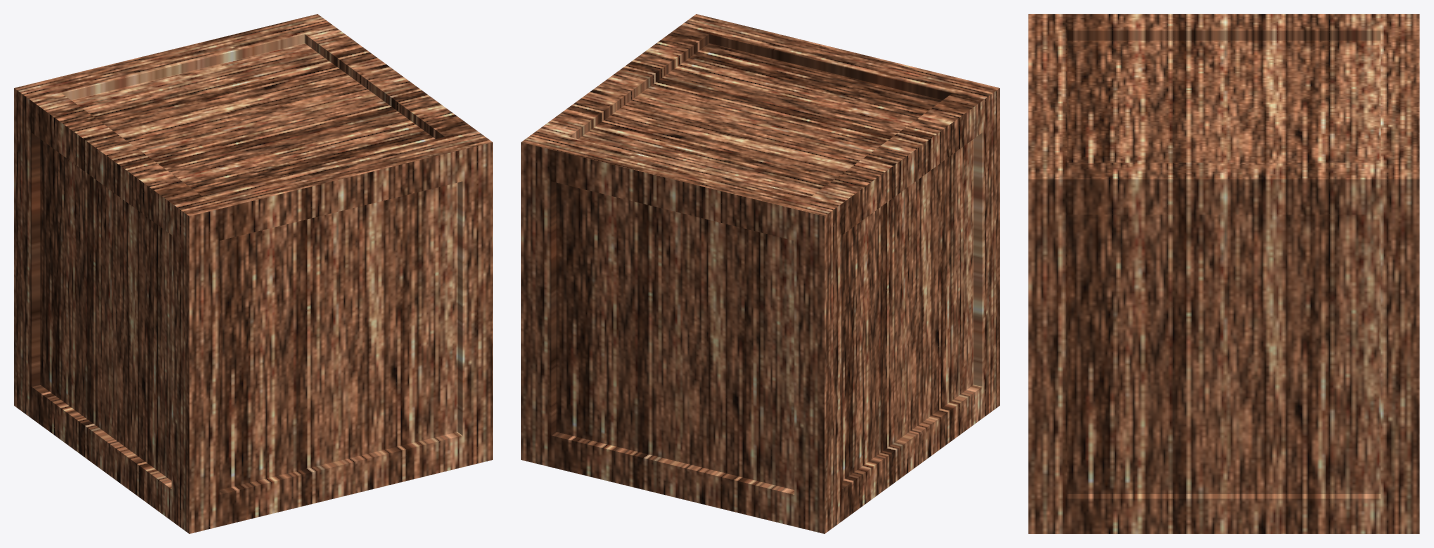
Rendered from crate.glb.
The picture shows the model from 3 angles, left to right: view 1: azimuth 30°, elevation 25°; view 2: azimuth 150°, elevation 25°; view 3: azimuth 270°, elevation 25°; orthographic projection. The views are drawn at different scales.
Visible parts, largest first — view 1: Cube; view 2: Cube; view 3: Cube.
Boxes of the visible parts, <box> form: Cube: <box>14,14,492,533</box>; Cube: <box>521,14,999,533</box>; Cube: <box>1028,14,1419,533</box>.
Size of the model in its own units: 2 by 2 by 2.
1 material, 1 textured.
